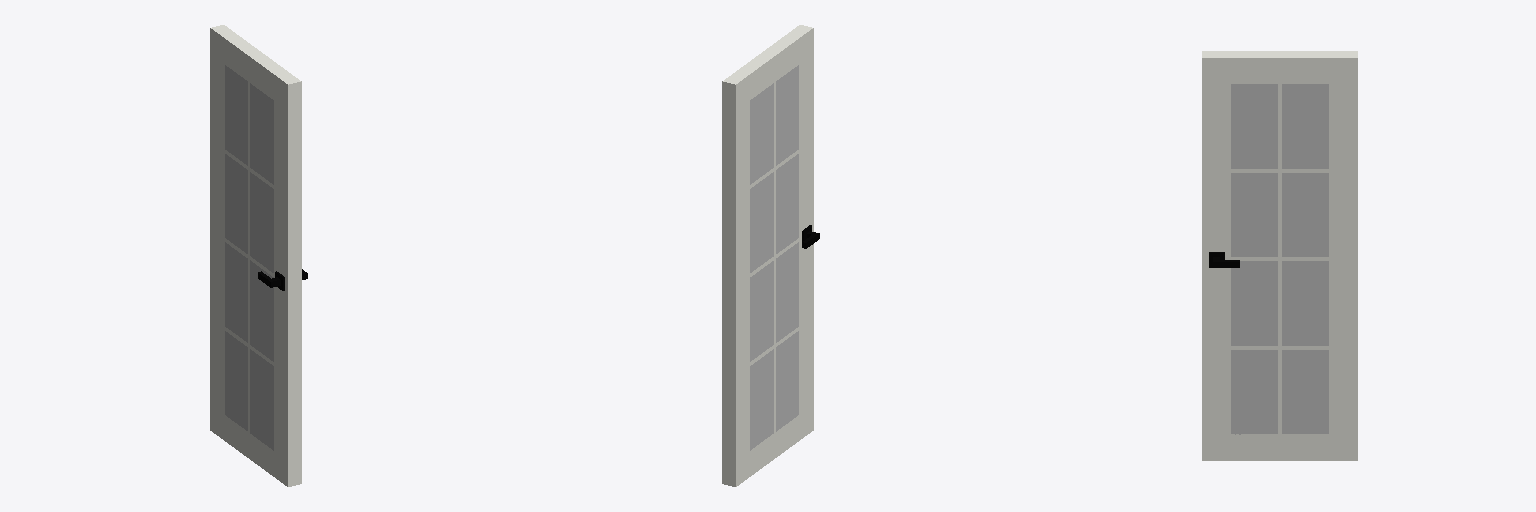
The model's file is door702_lactic.obj.
3 views of the same model, side by side, from view 1: azimuth 30°, elevation 25°; view 2: azimuth 150°, elevation 25°; view 3: azimuth 270°, elevation 25° (orthographic).
Visible parts, largest first — view 1: Cube; view 2: Cube; view 3: Cube.
Boxes of the visible parts, <box> form: Cube: <box>210,25,307,486</box>; Cube: <box>722,25,819,486</box>; Cube: <box>1202,51,1357,460</box>.
Bounding box in the file's own units: 0.1899 × 2 × 0.6998.